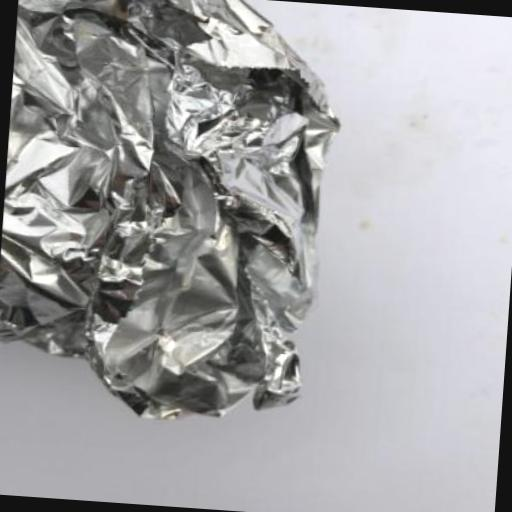metal: (0, 0, 350, 431)
